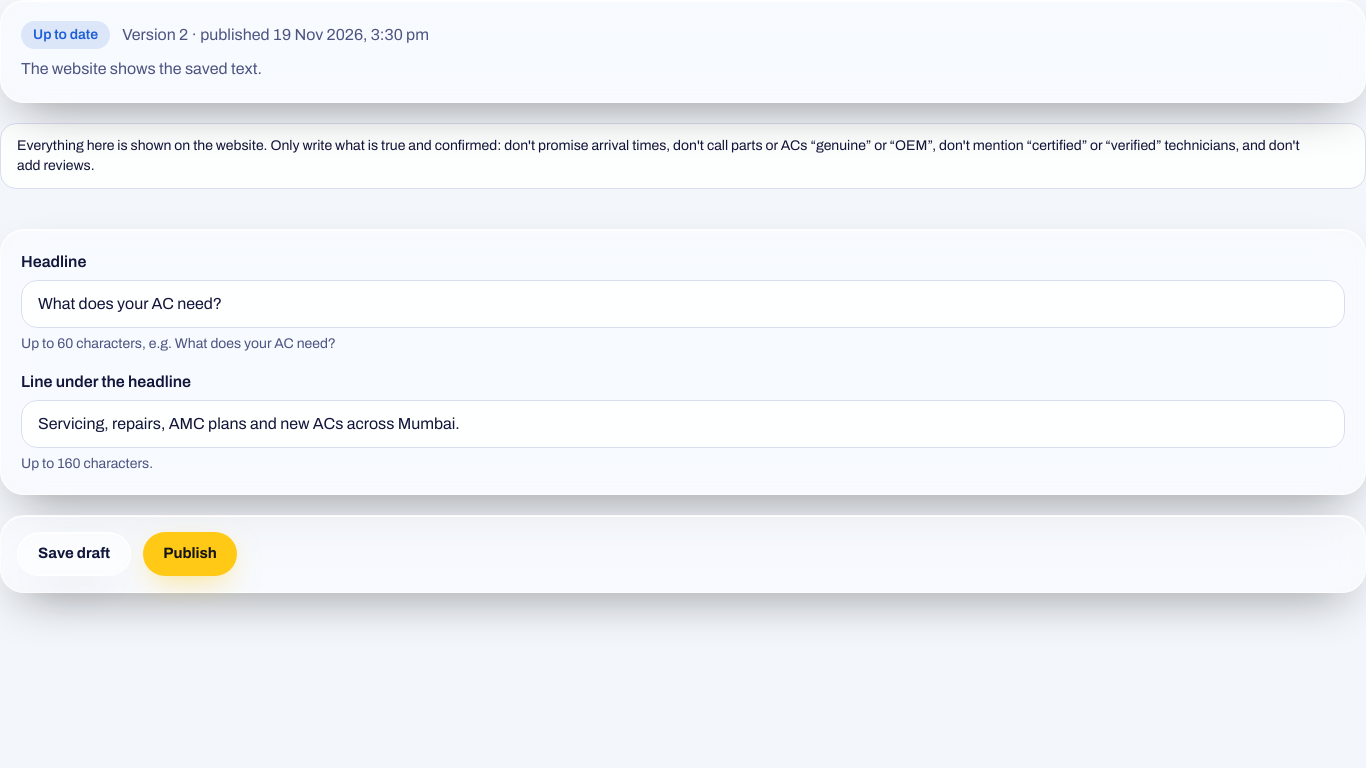
Test: ContentEditor: draft status › shows the badge after a draft is saved, and says changes typed are not saved yet
Replace the text in the field labelled "Headline" with "Cool rooms" at (683, 304), box [21, 280, 1345, 328]
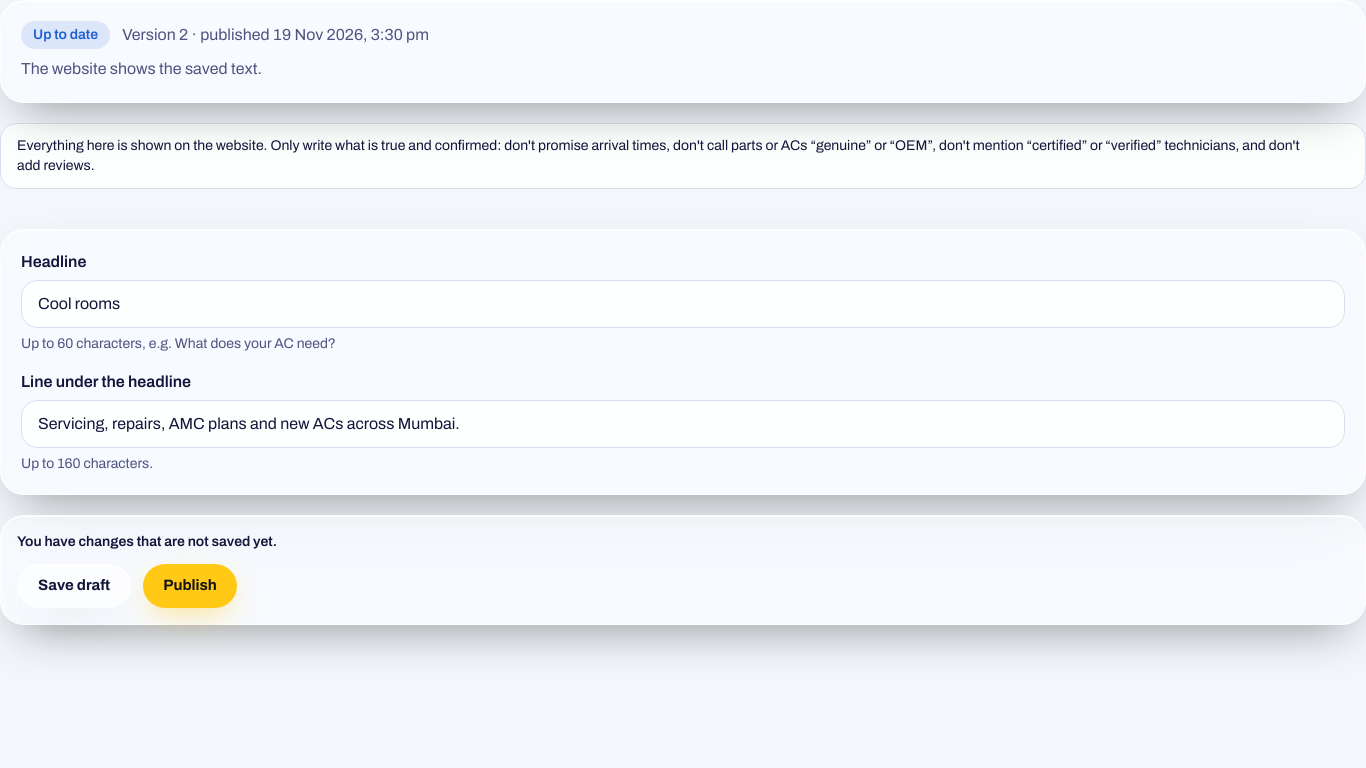
Expected: the text "You have changes that are not saved yet." is shown, [17, 534, 277, 549]
Click the button "Save draft" at (74, 586), box [17, 564, 131, 608]
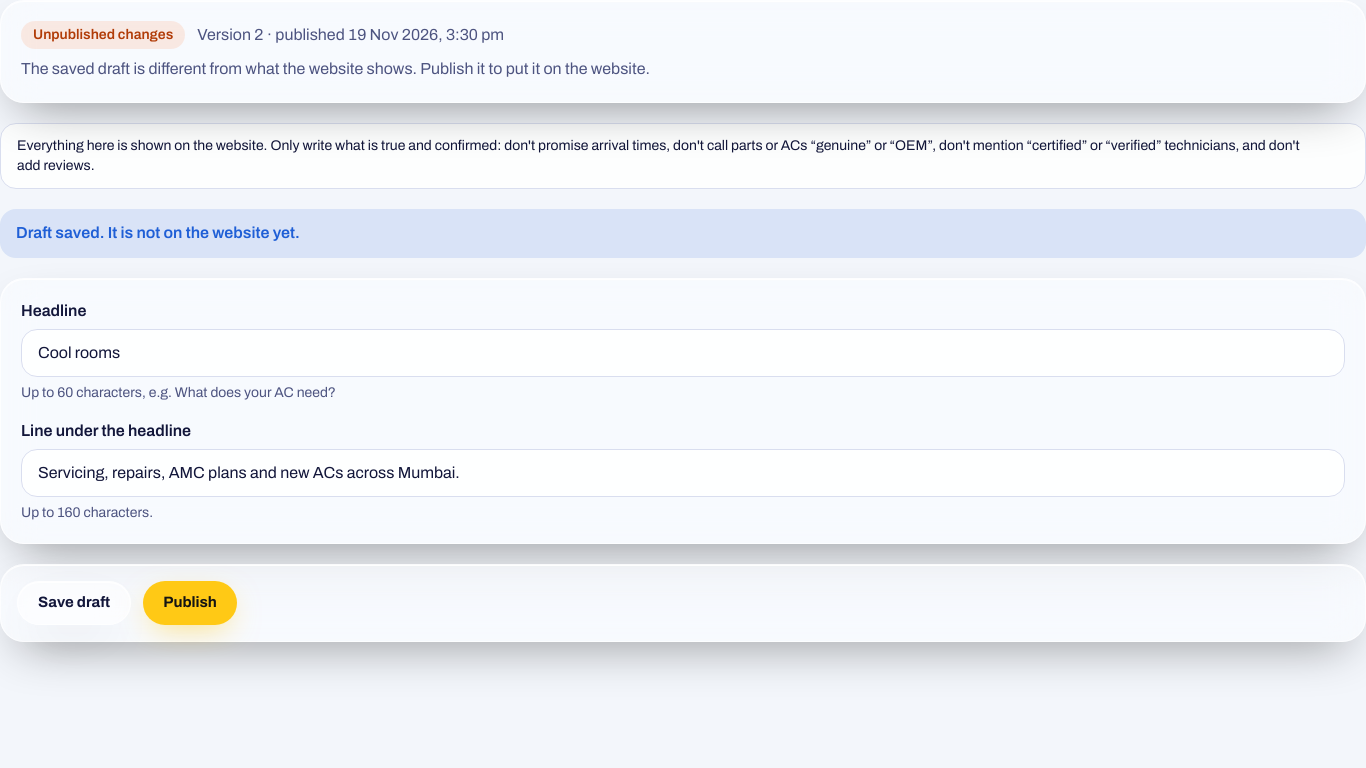
Expected: the text "Unpublished changes" is shown, [21, 21, 185, 49]
Expected: the text "not saved yet" is gone
Expected: the message shows "Draft saved", [16, 224, 300, 241]
